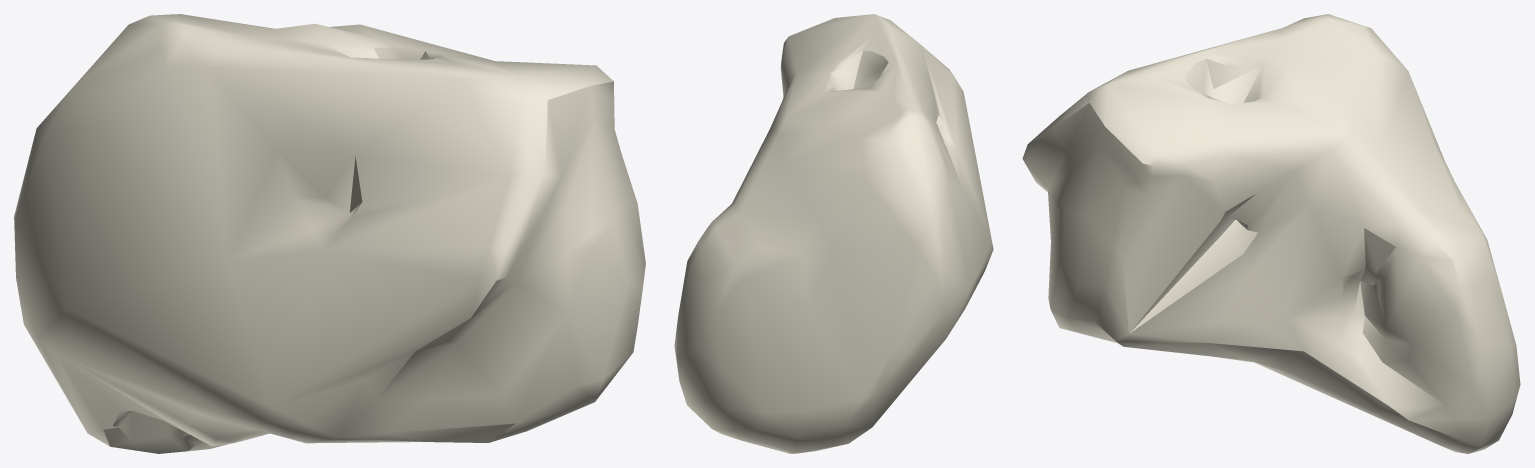
File: fma23725.glb
3 renders of one model, left to right at view 1: azimuth 30°, elevation 25°; view 2: azimuth 150°, elevation 25°; view 3: azimuth 270°, elevation 25°, orthographic. The views are drawn at different scales.
Visible parts, largest first — view 1: FMA23725; view 2: FMA23725; view 3: FMA23725.
Boxes of the visible parts, left/top/right/bottom form: FMA23725: left=14, top=14, right=645, bottom=453; FMA23725: left=674, top=14, right=993, bottom=453; FMA23725: left=1022, top=14, right=1520, bottom=453.
Bounding box in the file's own units: 0.0113 × 0.0127 × 0.0152.
